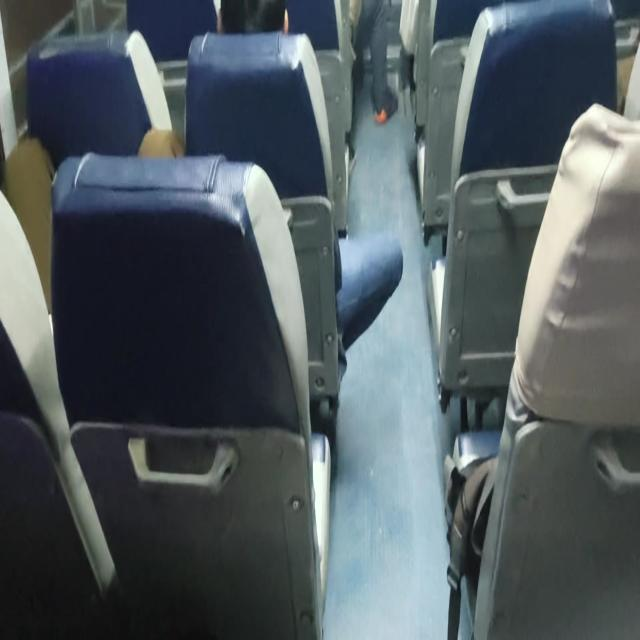person: (444, 40, 639, 637), (138, 25, 404, 387), (348, 0, 398, 124), (216, 0, 288, 34)
